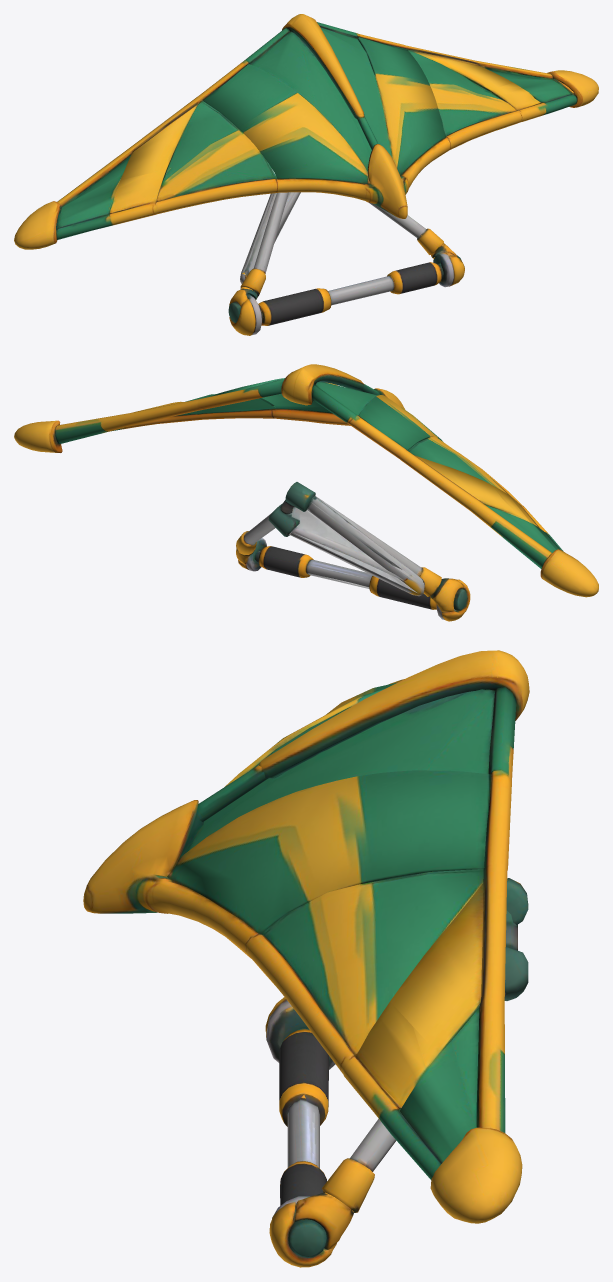
Rendered from selected.fbx.
3 renders of one model, top to bottom at view 1: azimuth 30°, elevation 25°; view 2: azimuth 150°, elevation 25°; view 3: azimuth 270°, elevation 25°, orthographic. The views are drawn at different scales.
Visible parts, largest first — view 1: tripo_node_f95a2ed1-e27b-4744-ac0a-d3cc0e3da044; view 2: tripo_node_f95a2ed1-e27b-4744-ac0a-d3cc0e3da044; view 3: tripo_node_f95a2ed1-e27b-4744-ac0a-d3cc0e3da044.
Part boxes in pixels (bbox=[...]): tripo_node_f95a2ed1-e27b-4744-ac0a-d3cc0e3da044: bbox=[14, 14, 598, 335]; tripo_node_f95a2ed1-e27b-4744-ac0a-d3cc0e3da044: bbox=[14, 364, 598, 621]; tripo_node_f95a2ed1-e27b-4744-ac0a-d3cc0e3da044: bbox=[83, 650, 529, 1267].
Bounding box in the file's own units: 0.9995 × 0.4282 × 0.3325.
Materials: 1 (1 with a texture image).
